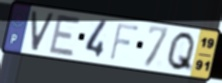4: (83, 18, 108, 62)
7: (144, 23, 172, 70)
E: (47, 12, 83, 58)
F: (108, 22, 141, 63)
Q: (165, 30, 197, 74)
V: (30, 9, 57, 53)
